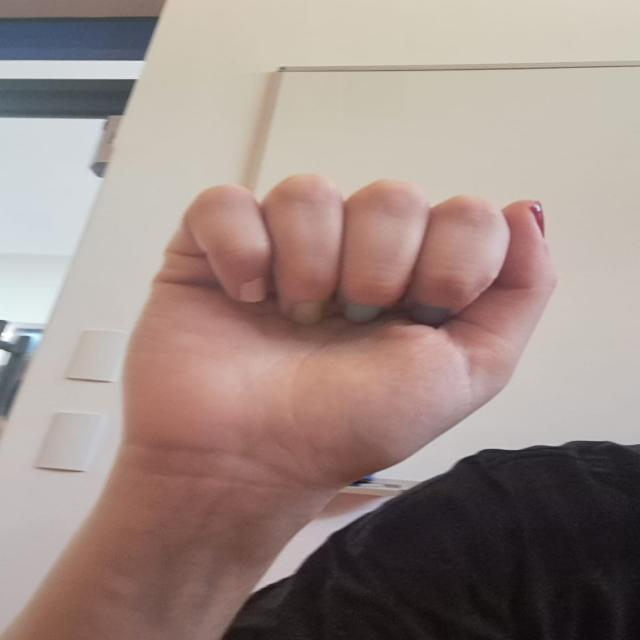A: (104, 158, 587, 510)
